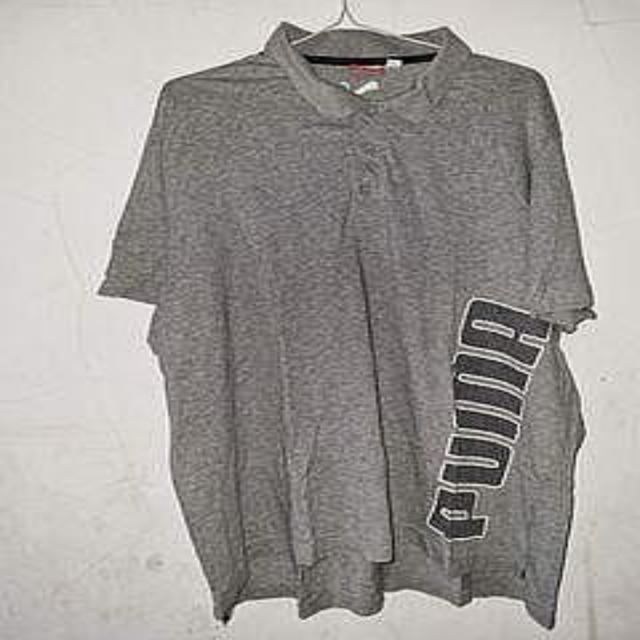T_SHIRT: (76, 20, 640, 640)
